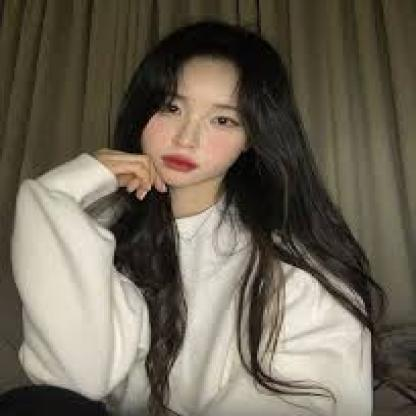person: (122, 23, 284, 197)
